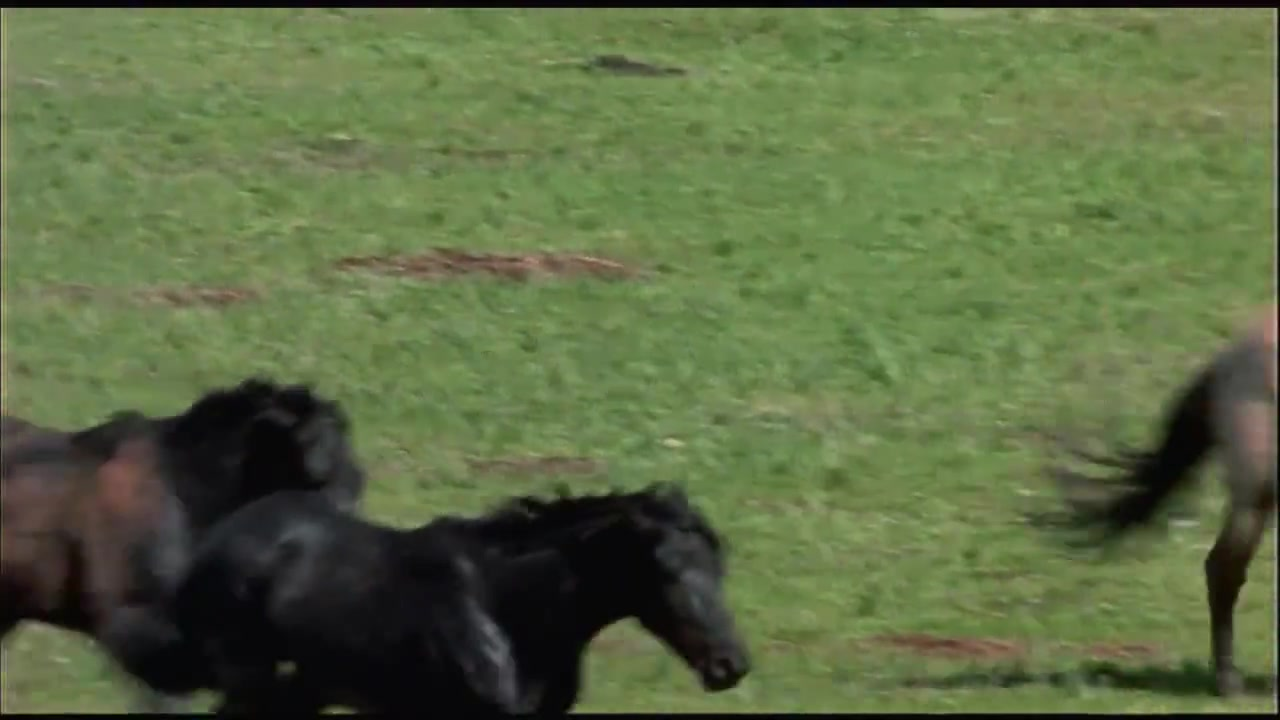horse: (82, 480, 759, 720)
